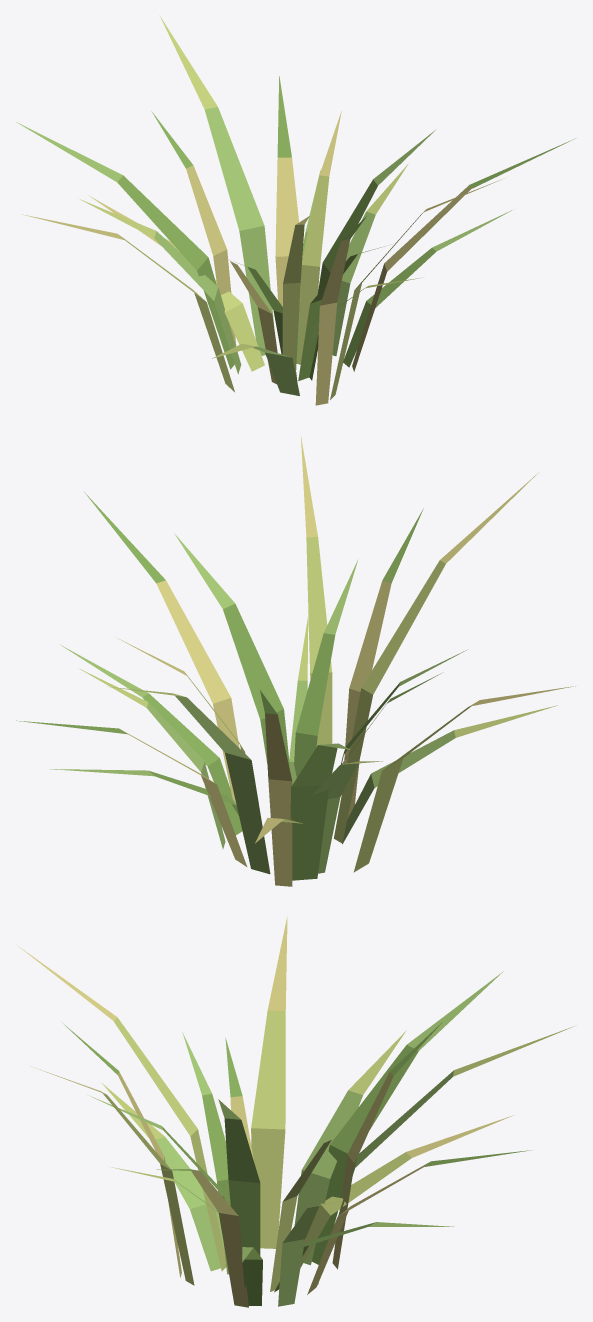
Rendered from find_grass.glb.
3 renders of one model, top to bottom at view 1: azimuth 30°, elevation 25°; view 2: azimuth 150°, elevation 25°; view 3: azimuth 270°, elevation 25°, orthographic. The views are drawn at different scales.
Visible parts, largest first — view 1: Wild grass; view 2: Wild grass; view 3: Wild grass.
Boxes of the visible parts, x1=… form: Wild grass: x1=16, y1=15, x2=575, y2=405; Wild grass: x1=16, y1=434, x2=577, y2=886; Wild grass: x1=16, y1=915, x2=574, y2=1307.
Bounding box in the file's own units: 0.7449 × 0.3857 × 0.6909.
